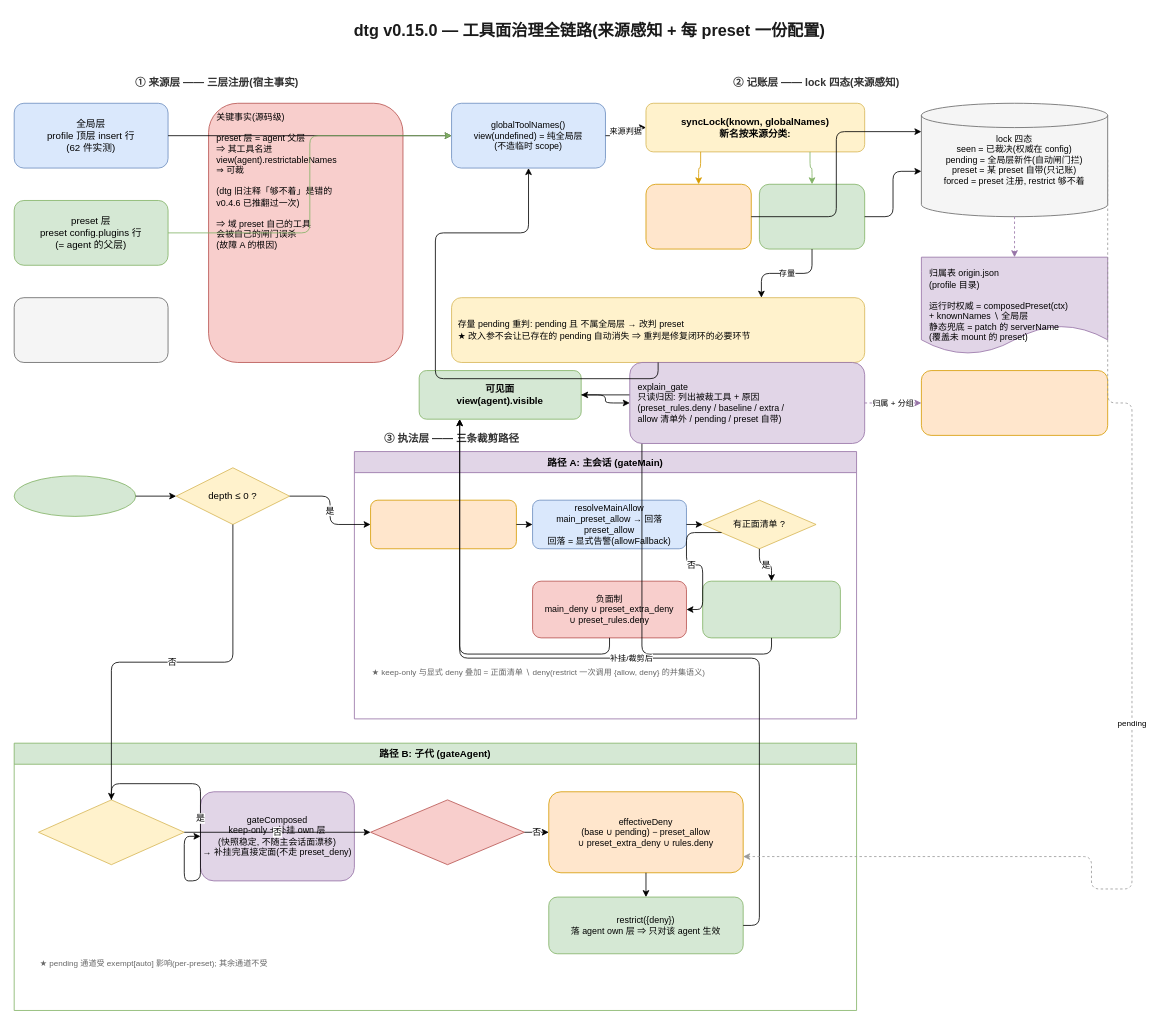
This 1161x1025 diagram has some shape labels left out. The centre of each missing label's shape, as x and y in pixels:
"agent own 层 agent.ctx 补挂 (restrict 裁不掉)" goes at (x=90, y=329).
"agent/created 事件" goes at (x=74, y=495).
"keep-only restrict({allow, deny}) 正面清单 ∖ preset_rules.deny" goes at (x=771, y=609).
"PENDING_CAPS 命中 ? (dispatch_composed 预挂)" goes at (x=111, y=832).
"preset_deny 命中 ? ⇒ 最小回报面 / fail-closed 全裁" goes at (x=447, y=832).
"resolvePresetRules (非法 ⇒ fail-loud, 整体不生效)" goes at (x=443, y=524).
"属 preset 层 → state = preset (只记账, 不进 deny)" goes at (x=812, y=216).
"属全局层 → state = pending (自动闸门管)" goes at (x=698, y=216).
"面板 逐 preset 天然完整面 + 自动归类 + 专属配置编辑 + 拆键按钮" goes at (x=1014, y=402).
